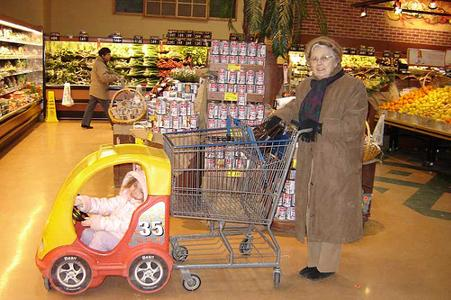person: (264, 37, 375, 284)
